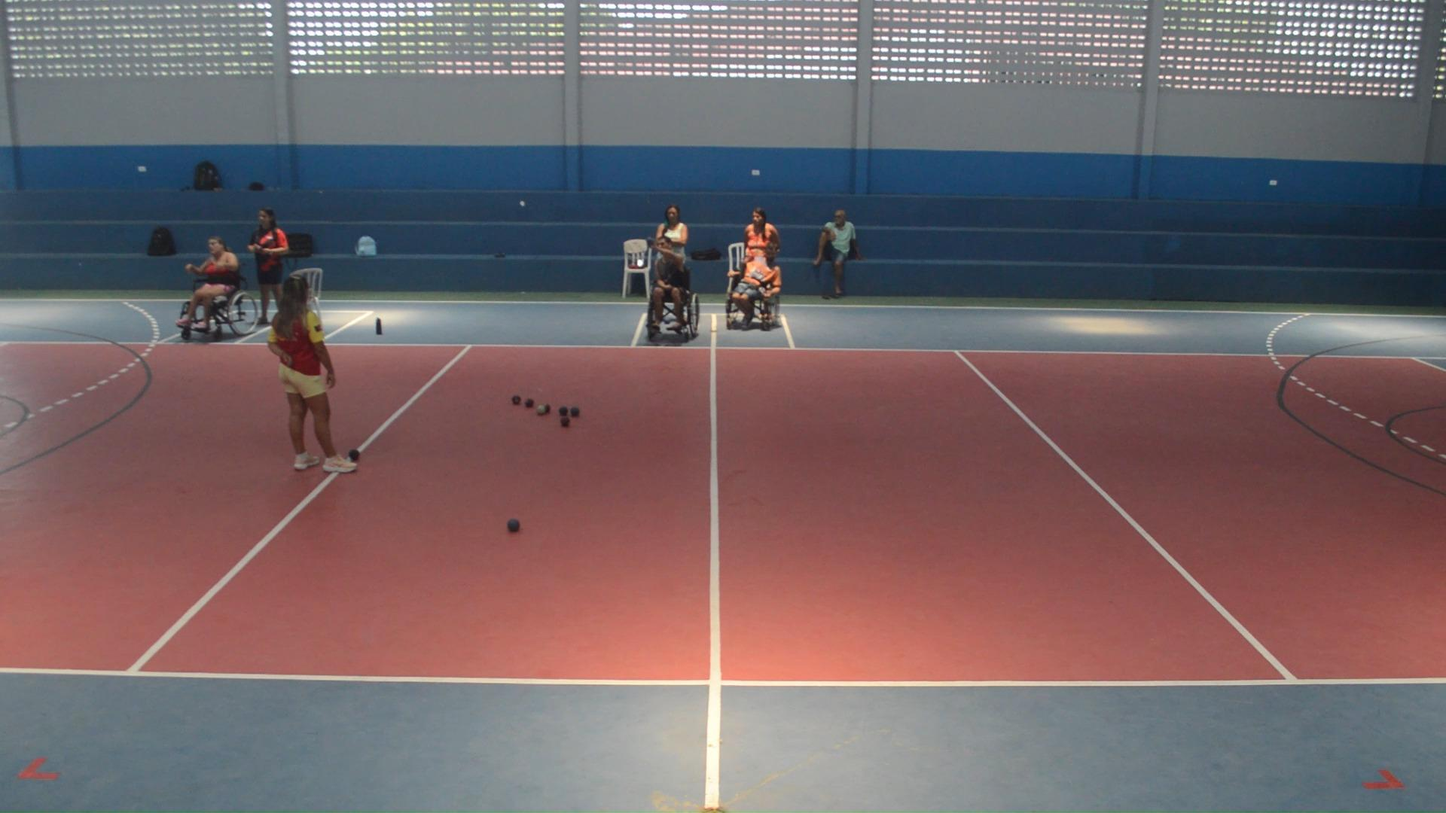blue_ball: (506, 518, 520, 533), (570, 406, 579, 417), (559, 406, 568, 416)
red_ball: (560, 416, 570, 427), (512, 395, 521, 405)
white_ball: (536, 403, 547, 415)
